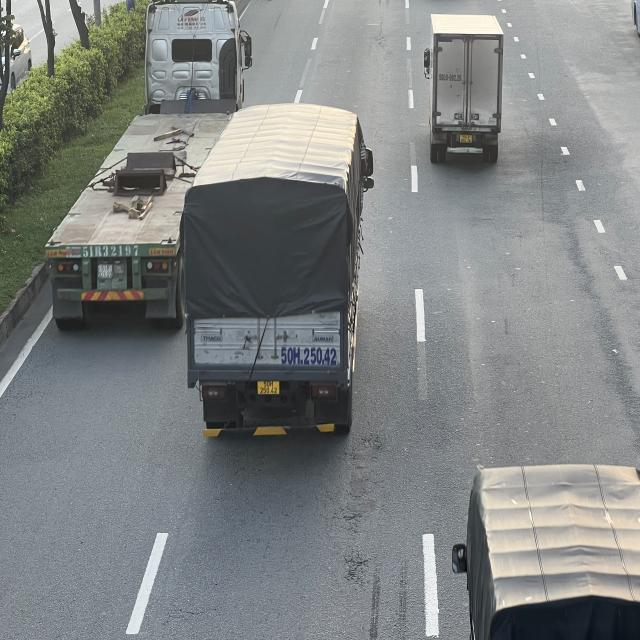container: (46, 0, 253, 333)
truck: (187, 103, 374, 439), (454, 466, 640, 640), (423, 11, 505, 165)
